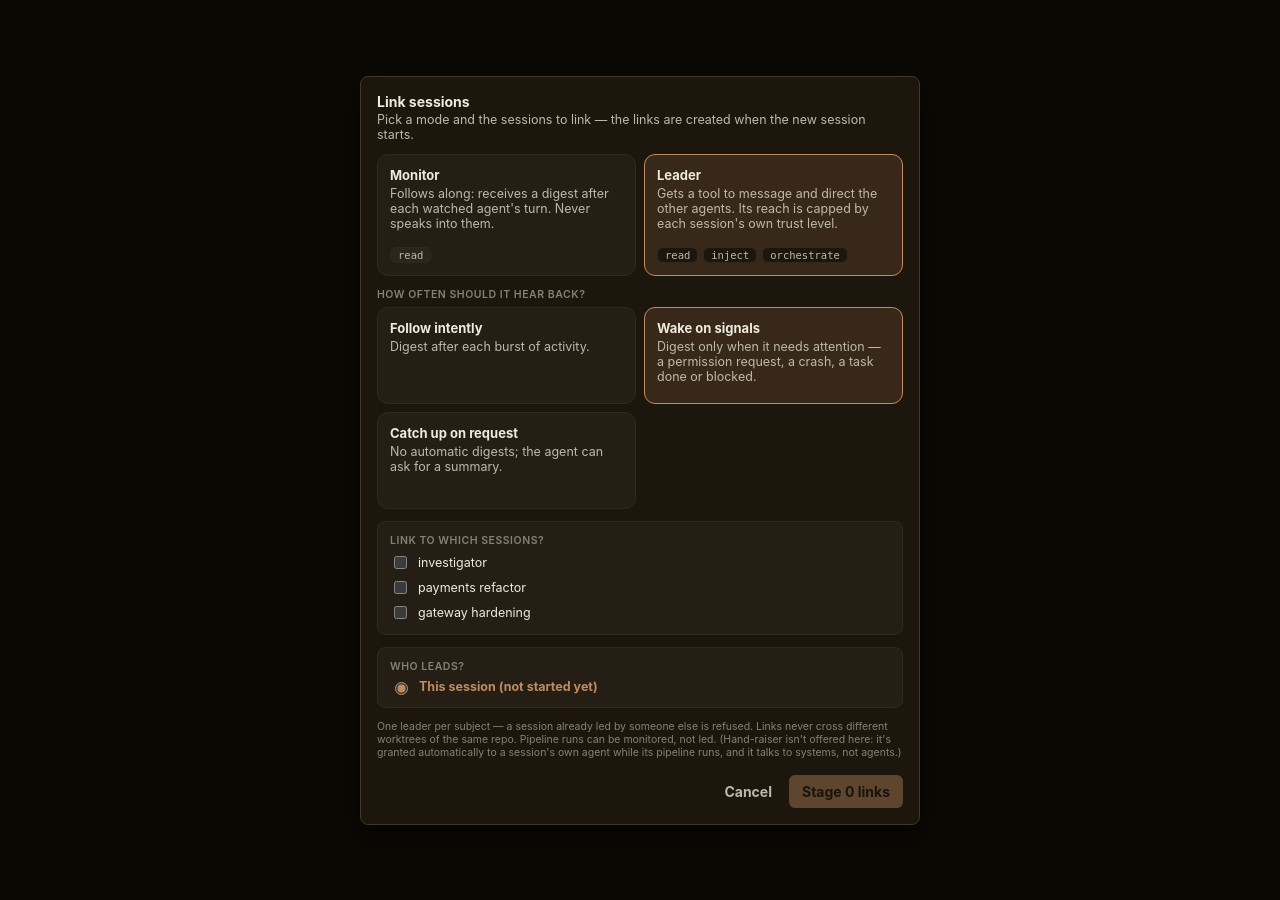
Test case: LinkChooserDialog › staged mode (Launchpad link-at-create) › preselects the phantom holder row and disables the radios of checked sessions
Expected: the radio button labelled "This session (not started yet)" is checked, [395,682,408,694]
Expected: the radio button labelled "This session (not started yet)" is enabled, [395,682,408,694]
Click the checkbox labelled "investigator": [400, 562] box [394,556,407,568]
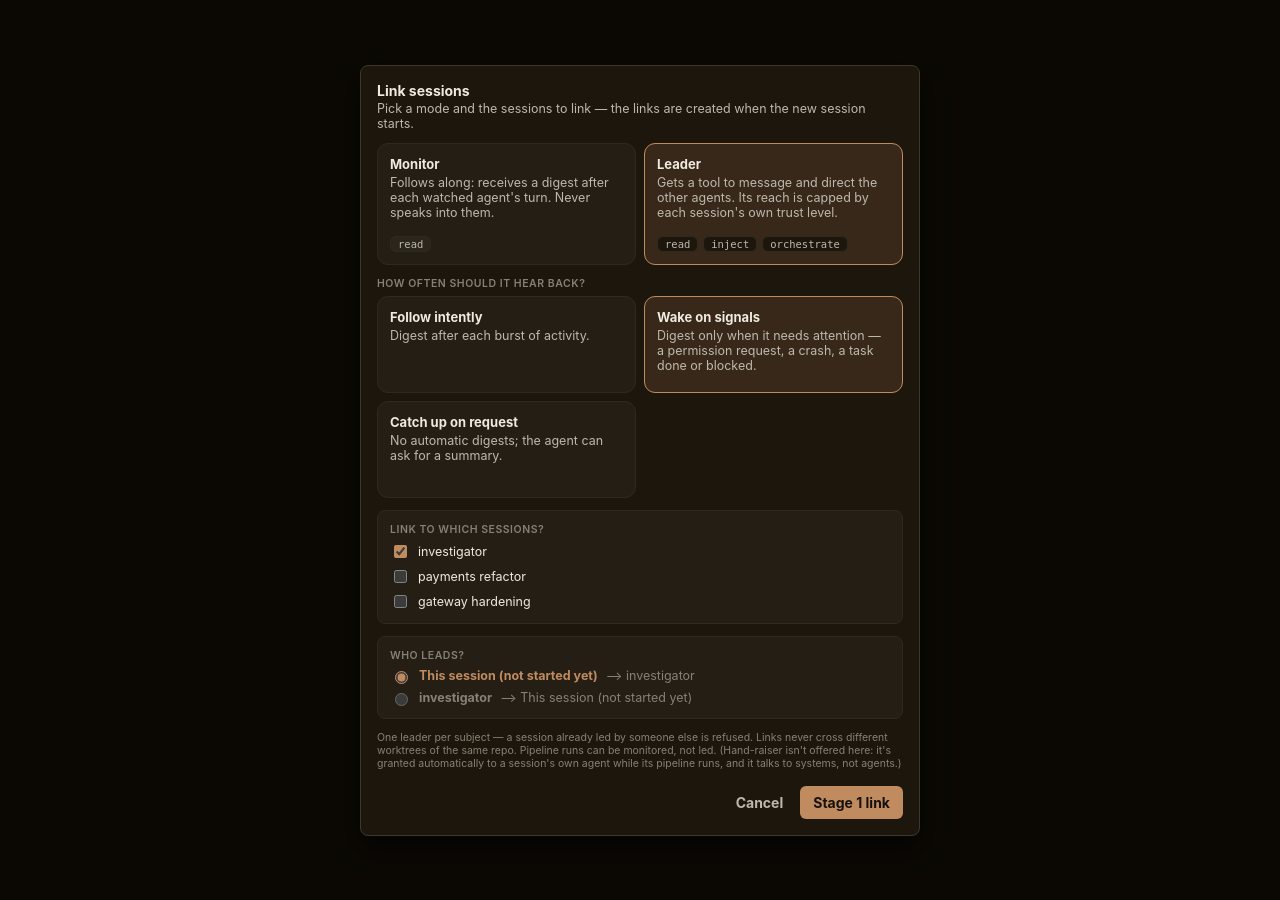
Expected: the radio button labelled "This session (not started yet) ⟶ investigator" is checked, [395,670,408,684]
Expected: the number of radio buttons is 2, [395,670,408,684]; [395,692,408,706]
Expected: the radio button labelled "investigator ⟶ This session (not started yet)" is disabled, [395,692,408,706]
